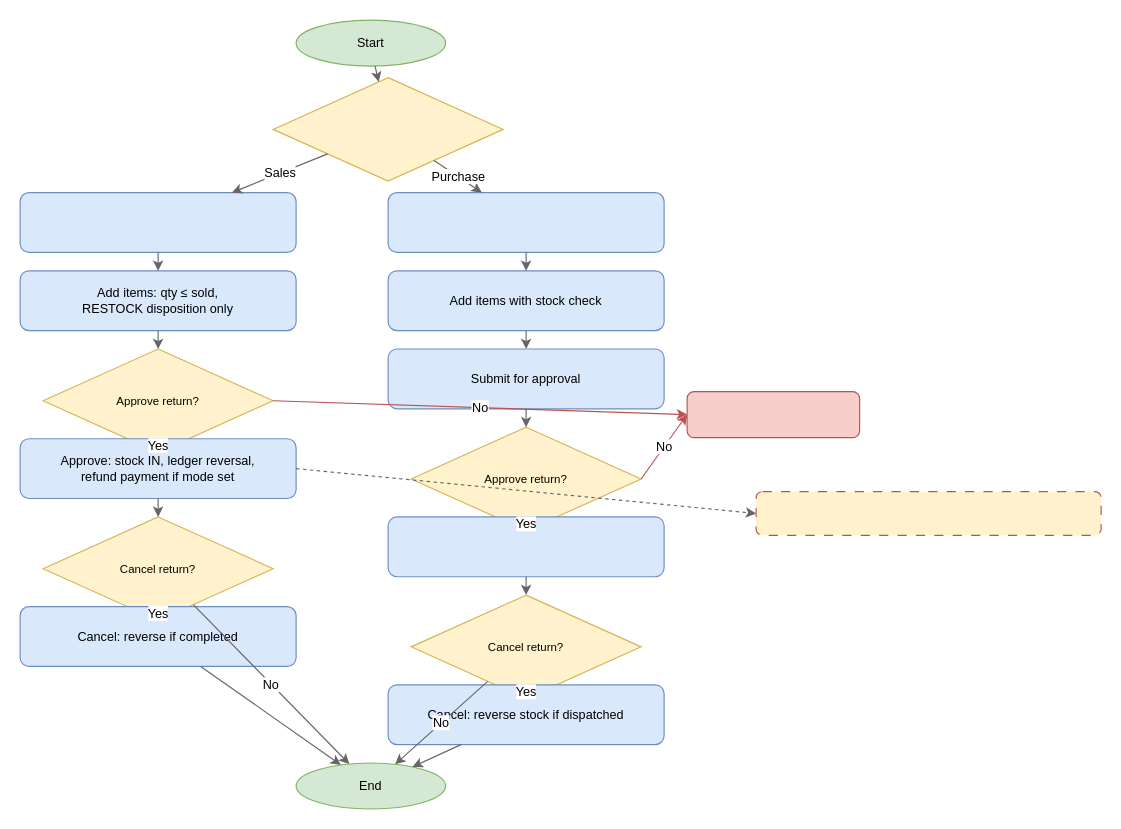
The diagram is 1121 pixels wide and 829 high, and some of its shapes have lost their labels. The shapes that lost their labels are listed below. From the top down, each one's centre as x and y in pixels, then its label:
point (387, 128): Return type? Sales / Purchase
point (157, 221): Load posted sales invoice and create draft return
point (525, 221): Create draft purchase return
point (773, 414): Rejected
point (928, 512): Accepted v1: RESTOCK only — no quarantine/expired
point (525, 546): Approve: stock OUT to supplier
